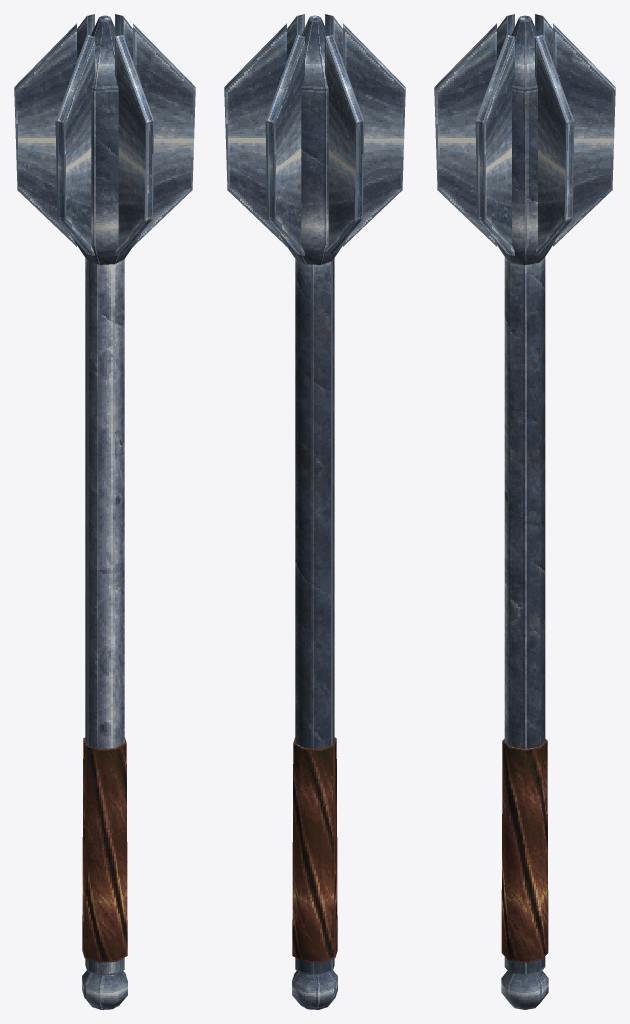
File: flanged_mace.glb
3 views of the same model, side by side, from view 1: azimuth 30°, elevation 25°; view 2: azimuth 150°, elevation 25°; view 3: azimuth 270°, elevation 25° (orthographic).
Visible parts, largest first — view 1: flanged_mace; view 2: flanged_mace; view 3: flanged_mace.
Boxes of the visible parts, bbox=[...] form: flanged_mace: bbox=[14, 14, 195, 1009]; flanged_mace: bbox=[224, 14, 405, 1009]; flanged_mace: bbox=[434, 14, 615, 1009].
Size of the model in its own units: 0.1035 by 0.6988 by 0.116.
Materials: 1 (1 with a texture image).
